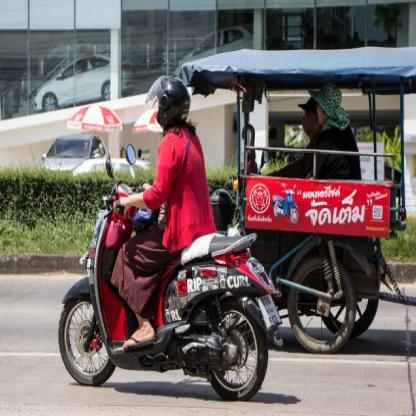Motorcycle: (52, 169, 279, 403)
